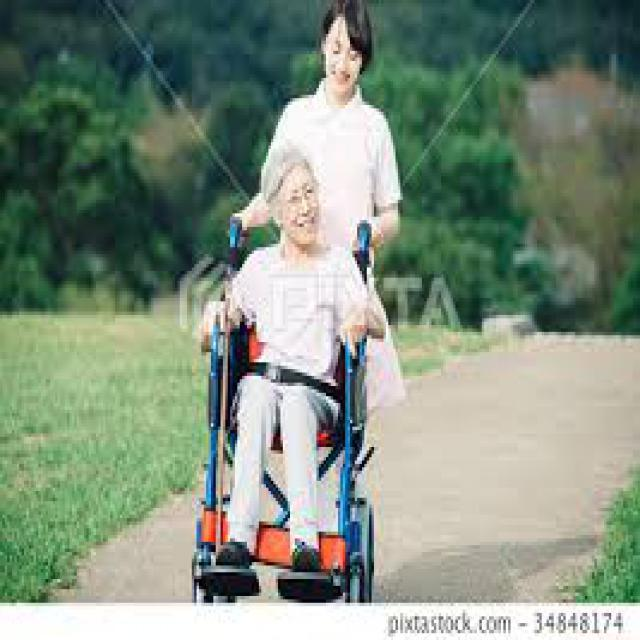wheelchairs: (180, 193, 393, 603)
